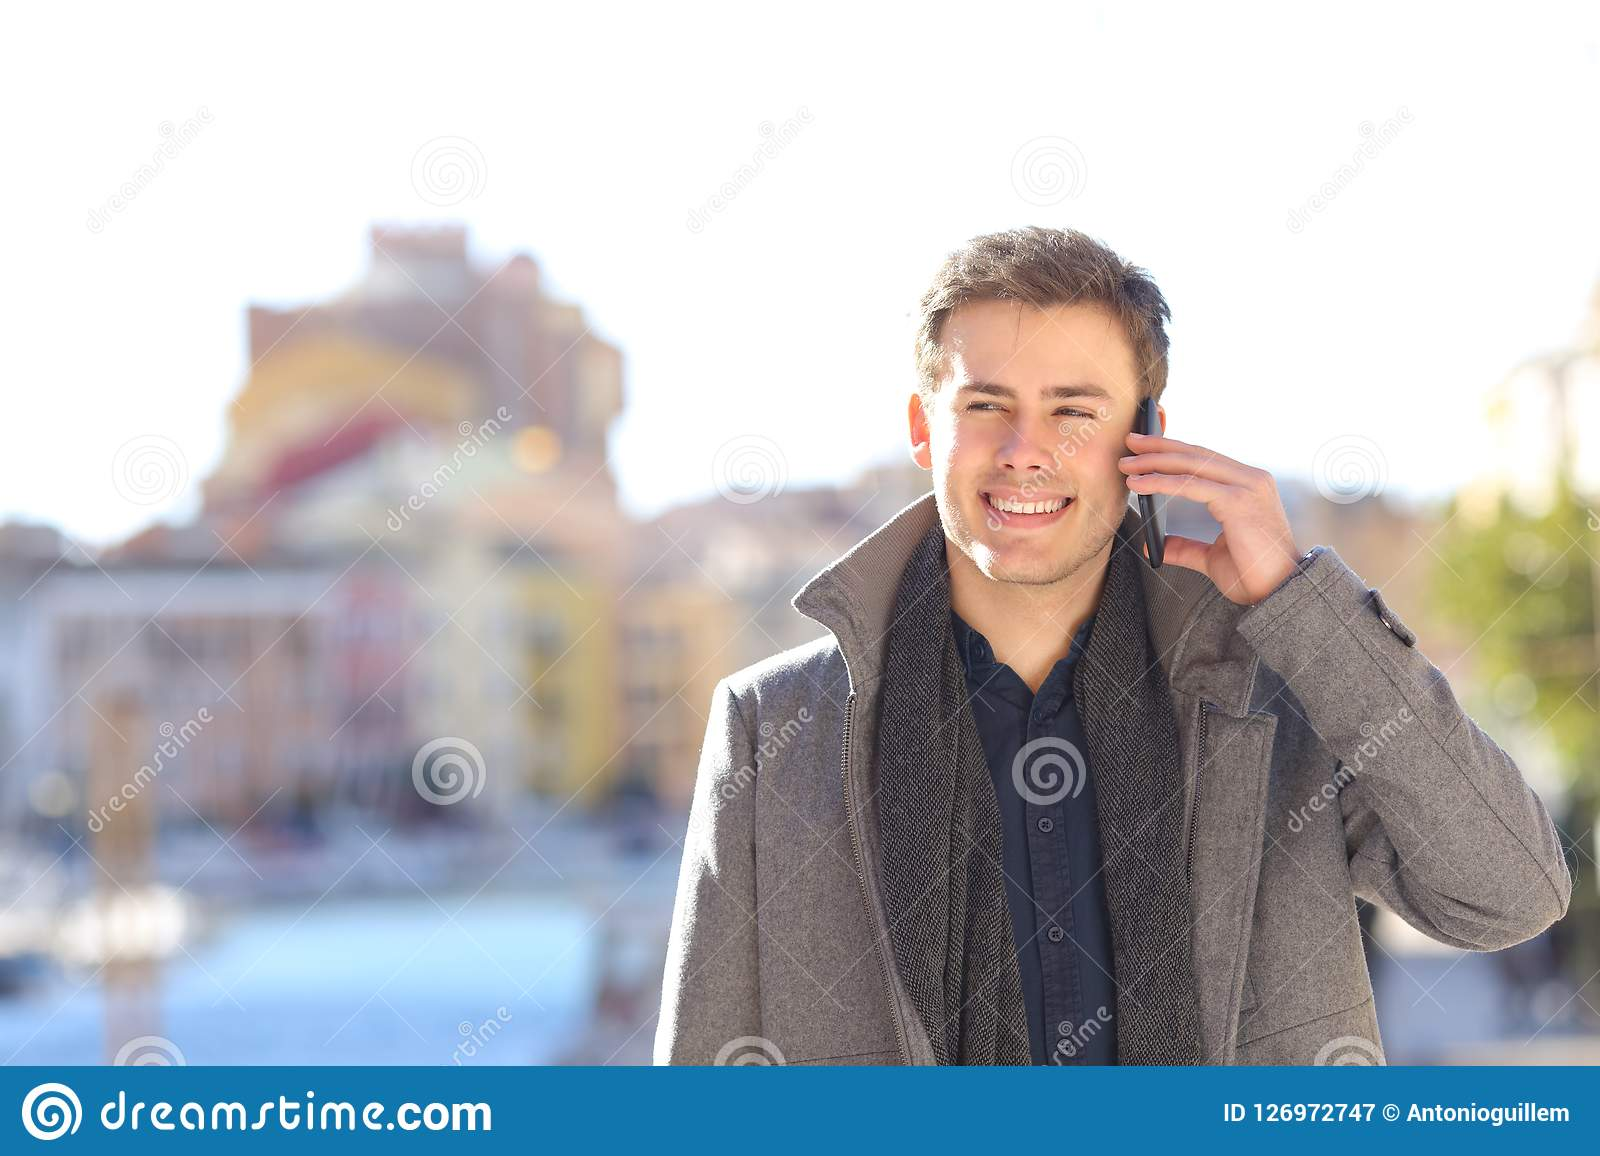phone: (1127, 399, 1180, 587)
talk: (945, 368, 1303, 607)
